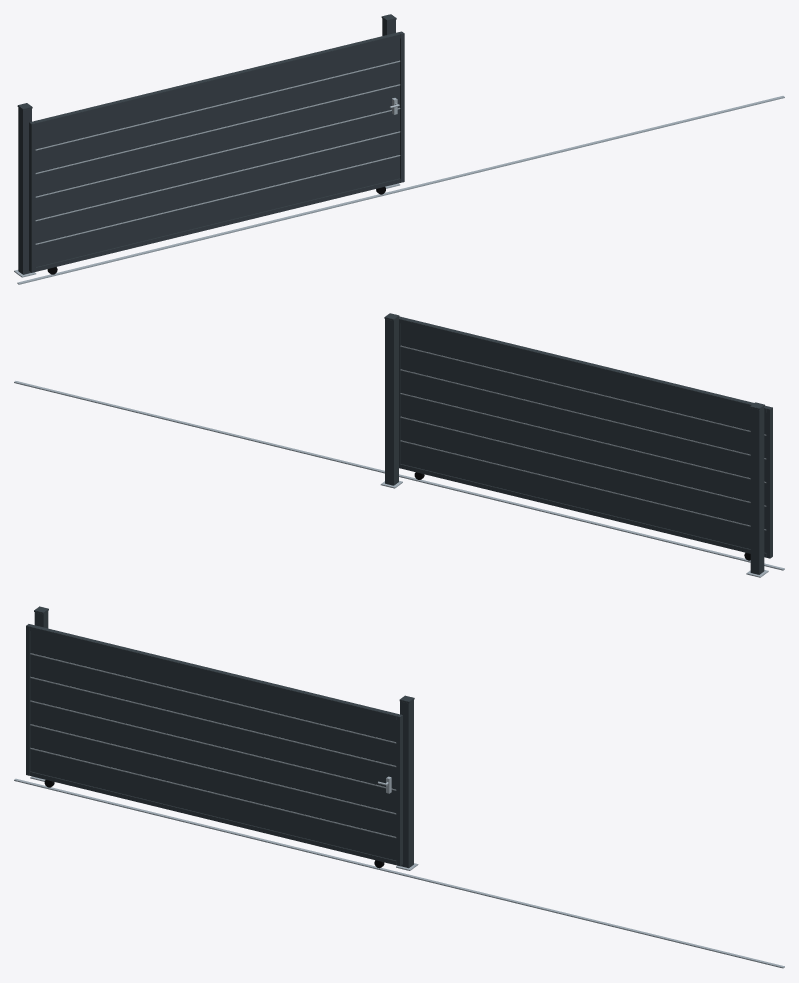
File: 05-klizna.glb
3 views of the same model, one above another, from view 1: azimuth 30°, elevation 25°; view 2: azimuth 150°, elevation 25°; view 3: azimuth 330°, elevation 25° (orthographic).
Visible parts, largest first — view 1: Ispuna_antracit_panel.025, Ispuna_antracit_panel.024, Ispuna_antracit_panel.028, Ispuna_antracit_panel.026, Ispuna_antracit_panel.027, Ispuna_antracit_panel.029, Ram_gornji.019, Okov_vodilica_demo.004, Ram_donji.019, Stub_levi.019, Ram_bocni.038, Ram_bocni.039 (+5 smaller); view 2: Ispuna_antracit_panel.024, Ispuna_antracit_panel.025, Ispuna_antracit_panel.026, Ispuna_antracit_panel.027, Ispuna_antracit_panel.028, Ispuna_antracit_panel.029, Ram_gornji.019, Okov_vodilica_demo.004, Stub_levi.019, Stub_desni.019, Ram_donji.019, Ram_bocni.038 (+5 smaller); view 3: Ispuna_antracit_panel.024, Ispuna_antracit_panel.028, Ispuna_antracit_panel.025, Ispuna_antracit_panel.026, Ispuna_antracit_panel.027, Ispuna_antracit_panel.029, Ram_gornji.019, Okov_vodilica_demo.004, Ram_donji.019, Stub_desni.019, Ram_bocni.039, Ram_bocni.038 (+5 smaller).
Part boxes in pixels (box(x1,y1,x2,y2)): Ispuna_antracit_panel.025: box(35, 132, 399, 243); Ispuna_antracit_panel.024: box(35, 156, 399, 266); Ispuna_antracit_panel.028: box(35, 62, 399, 172); Ispuna_antracit_panel.026: box(35, 109, 399, 219); Ispuna_antracit_panel.027: box(35, 85, 399, 196); Ispuna_antracit_panel.029: box(35, 38, 399, 149); Ram_gornji.019: box(33, 32, 400, 127); Okov_vodilica_demo.004: box(17, 96, 784, 284); Ram_donji.019: box(35, 178, 400, 271); Stub_levi.019: box(18, 107, 31, 274); Ram_bocni.038: box(29, 121, 35, 272); Ram_bocni.039: box(398, 31, 404, 182); Ispuna_antracit_panel.024: box(400, 441, 766, 552); Ispuna_antracit_panel.025: box(400, 417, 766, 529); Ispuna_antracit_panel.026: box(400, 394, 766, 505); Ispuna_antracit_panel.027: box(400, 370, 766, 481); Ispuna_antracit_panel.028: box(400, 346, 766, 458); Ispuna_antracit_panel.029: box(400, 323, 766, 434); Ram_gornji.019: box(400, 317, 768, 412); Okov_vodilica_demo.004: box(14, 381, 784, 570); Stub_levi.019: box(750, 407, 764, 574); Stub_desni.019: box(385, 317, 398, 485); Ram_donji.019: box(400, 464, 766, 557); Ram_bocni.038: box(766, 406, 772, 558); Ispuna_antracit_panel.024: box(30, 749, 396, 860); Ispuna_antracit_panel.028: box(30, 654, 396, 765); Ispuna_antracit_panel.025: box(30, 725, 396, 836); Ispuna_antracit_panel.026: box(30, 701, 396, 812); Ispuna_antracit_panel.027: box(30, 678, 396, 789); Ispuna_antracit_panel.029: box(30, 631, 396, 741); Ram_gornji.019: box(30, 625, 398, 719); Okov_vodilica_demo.004: box(14, 778, 784, 968); Ram_donji.019: box(30, 771, 396, 864); Stub_desni.019: box(400, 700, 413, 868); Ram_bocni.039: box(396, 714, 402, 865); Ram_bocni.038: box(26, 624, 32, 775).
Size of the model in its own units: 8.63 by 1.8 by 0.38.
